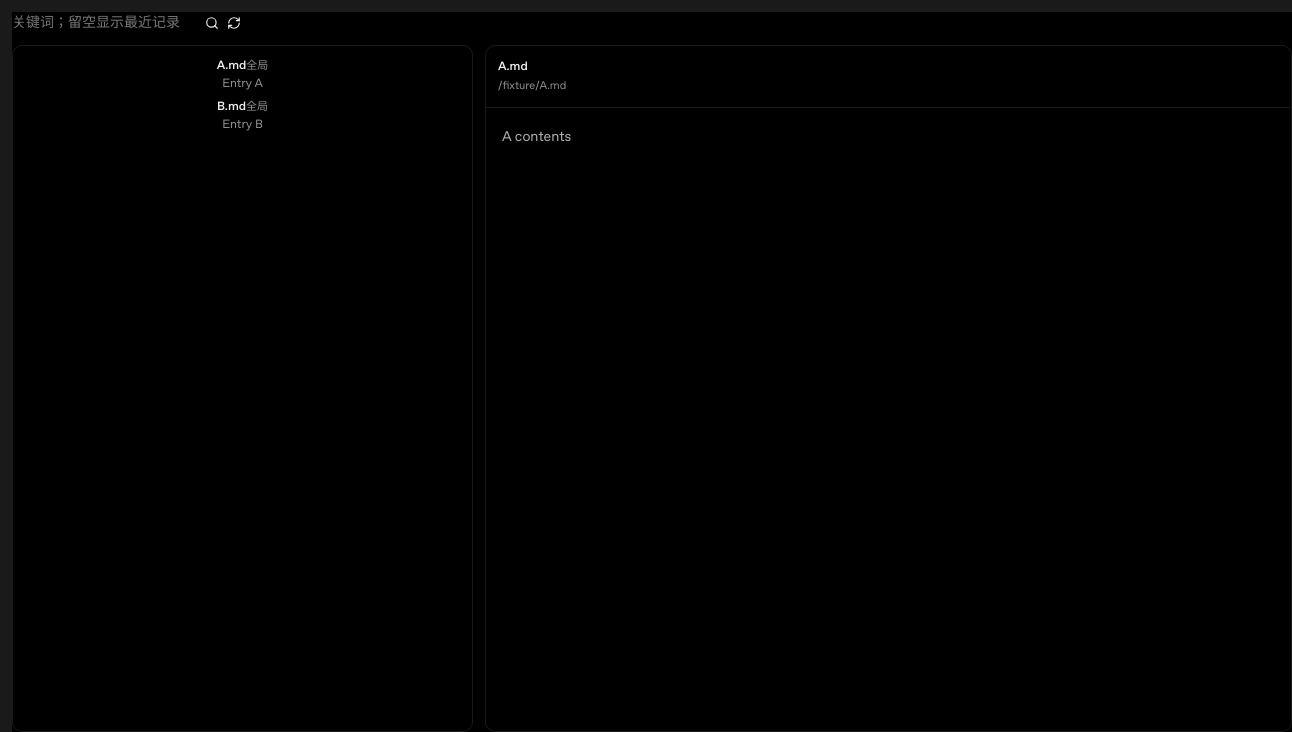
Test: memory browsing request ownership › does not replace a newer selected entry with late content or an old error
Expected: the text "A contents" is shown, [502,128,571,144]
Click the button "A.md".
click(243, 72)  # box [21,54,464,91]
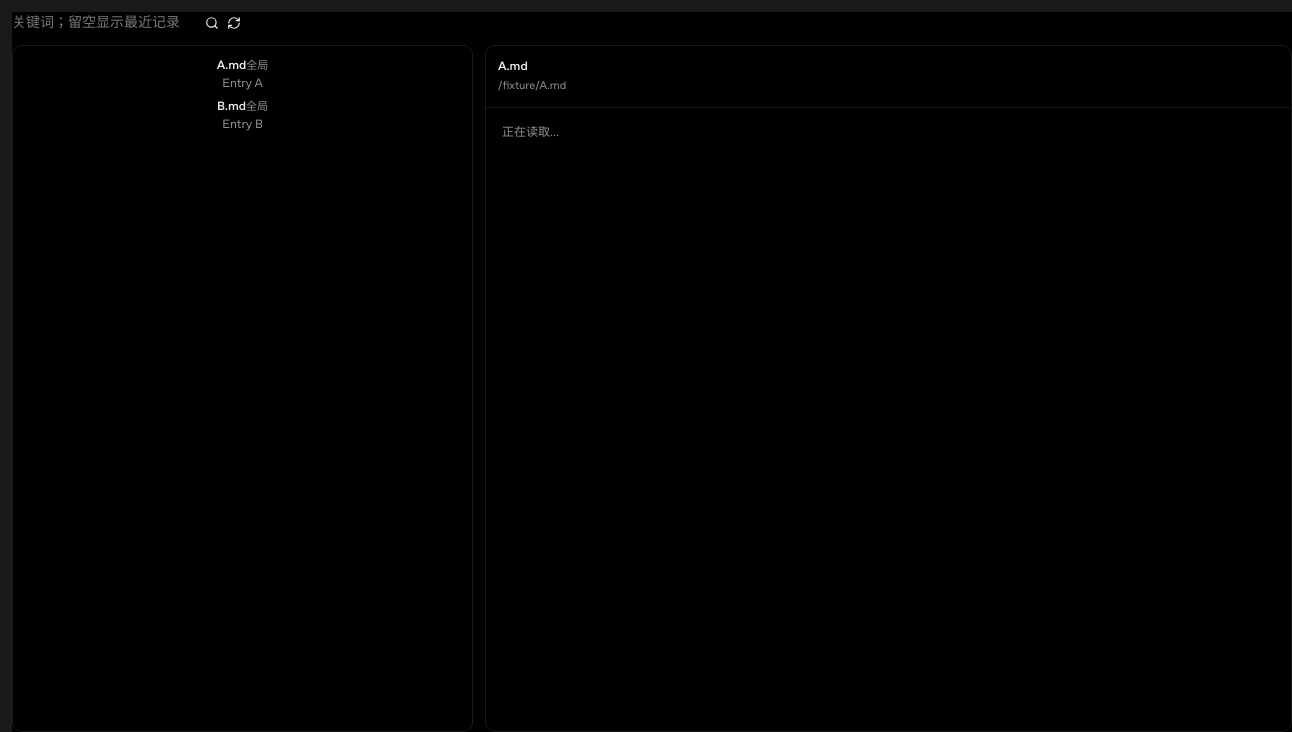
Click the button "B.md".
click(243, 114)  # box [21,95,464,132]
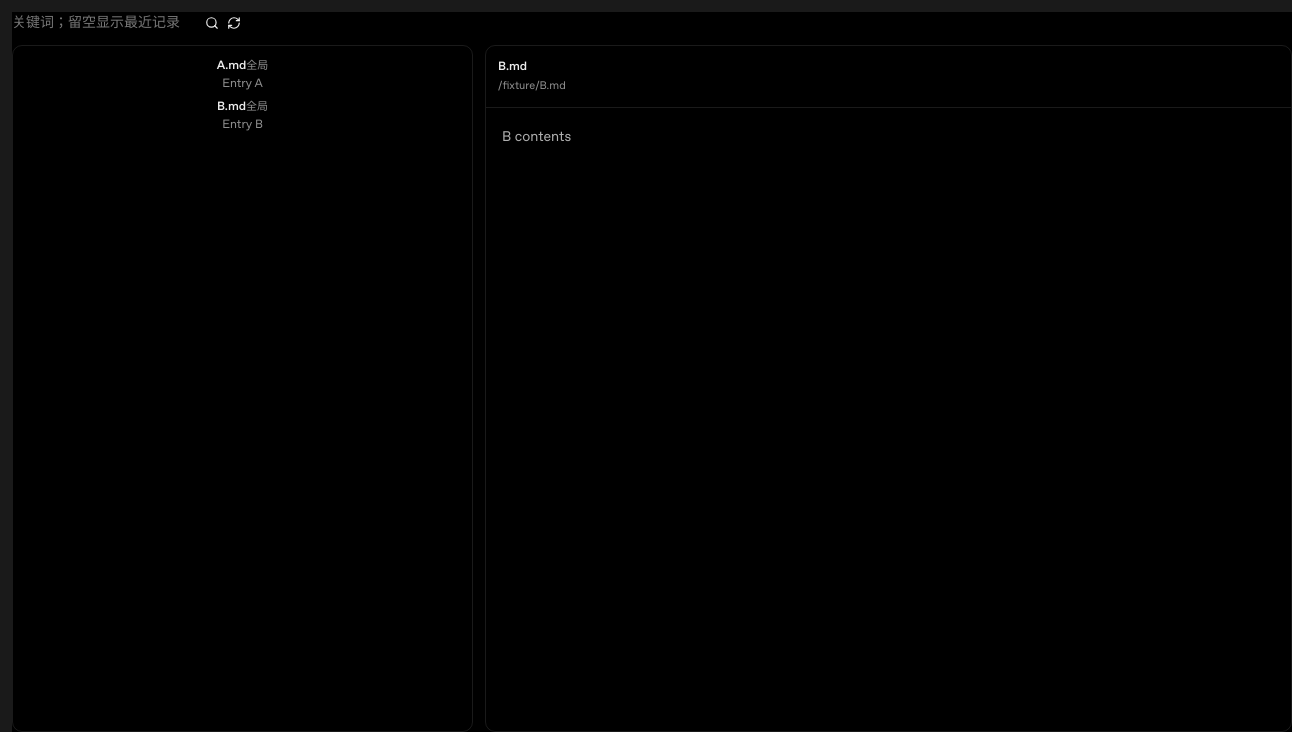
Now the text "B contents" is shown, box [502,128,571,144]
Now the message "正在读取…" is gone
